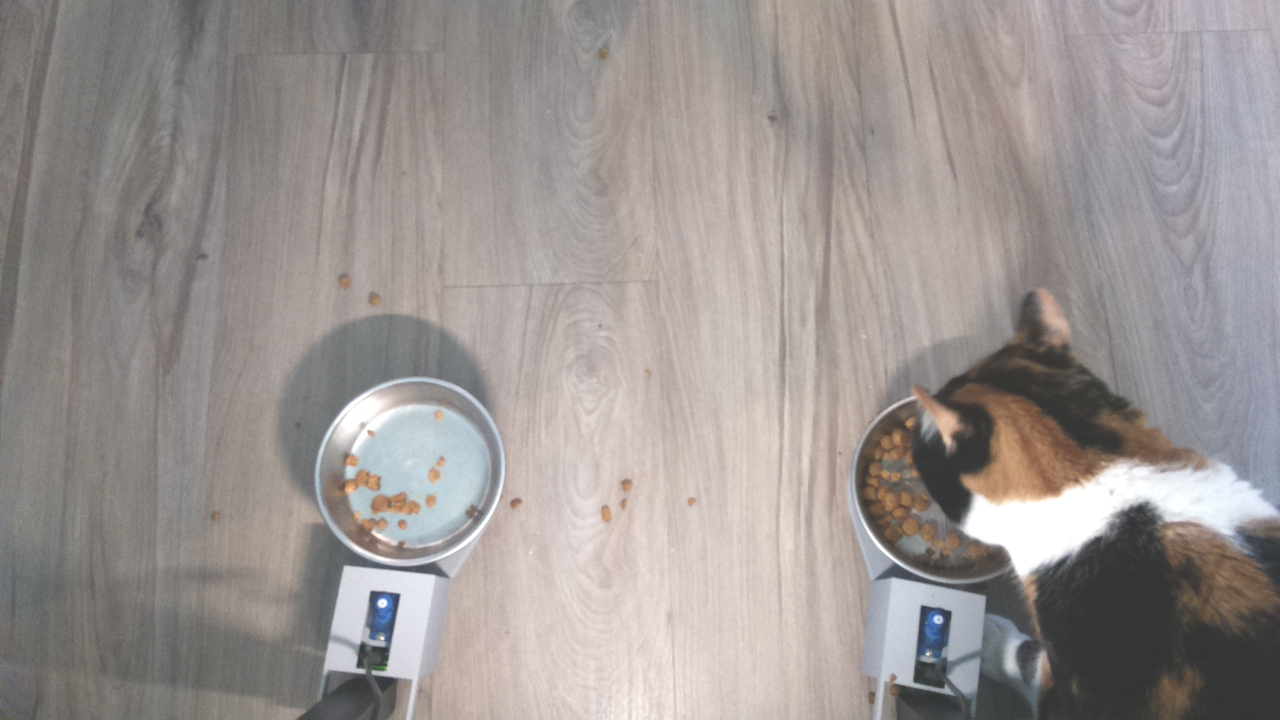bella_eating: (857, 282, 1193, 594)
open_bowl: (308, 371, 509, 570)
